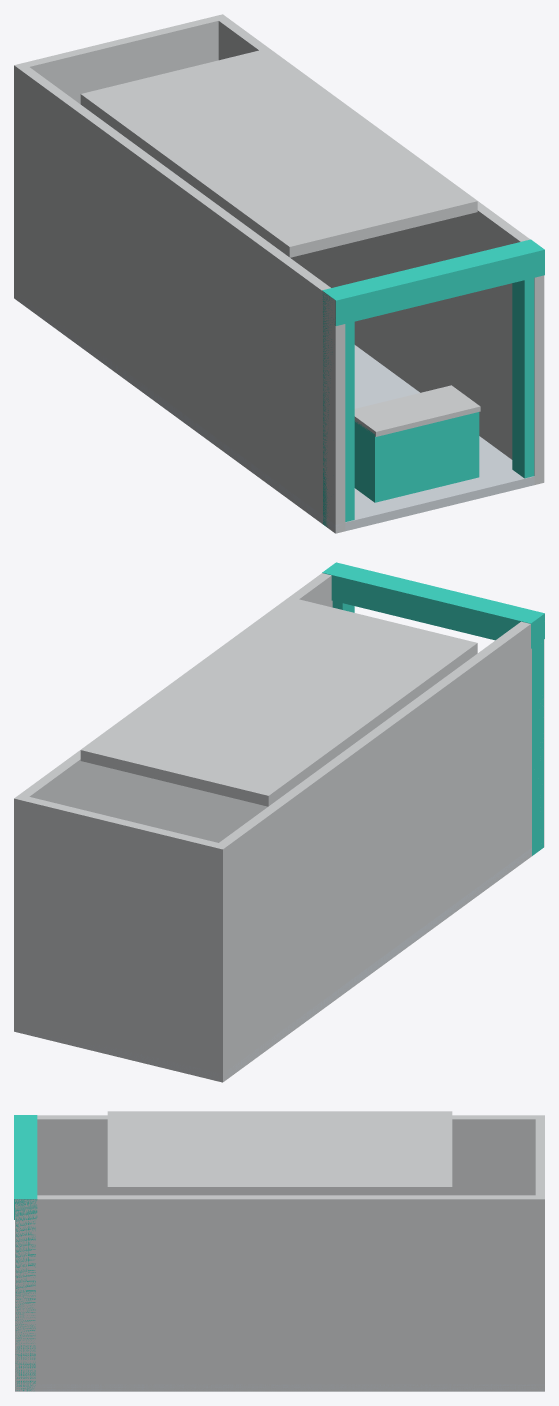
The picture shows the model from 3 angles, top to bottom: view 1: azimuth 30°, elevation 25°; view 2: azimuth 150°, elevation 25°; view 3: azimuth 270°, elevation 25°; orthographic projection. The views are drawn at different scales.
Parts seen in each view (by area): view 1: Exhibition Booth Concept; view 2: Exhibition Booth Concept; view 3: Exhibition Booth Concept.
Part boxes in pixels (x1,y1,x2,y2): Exhibition Booth Concept: (14,14,544,533); Exhibition Booth Concept: (14,562,544,1082); Exhibition Booth Concept: (14,1111,544,1391).
Bounding box in the file's own units: 3 × 3.34 × 8.01.
